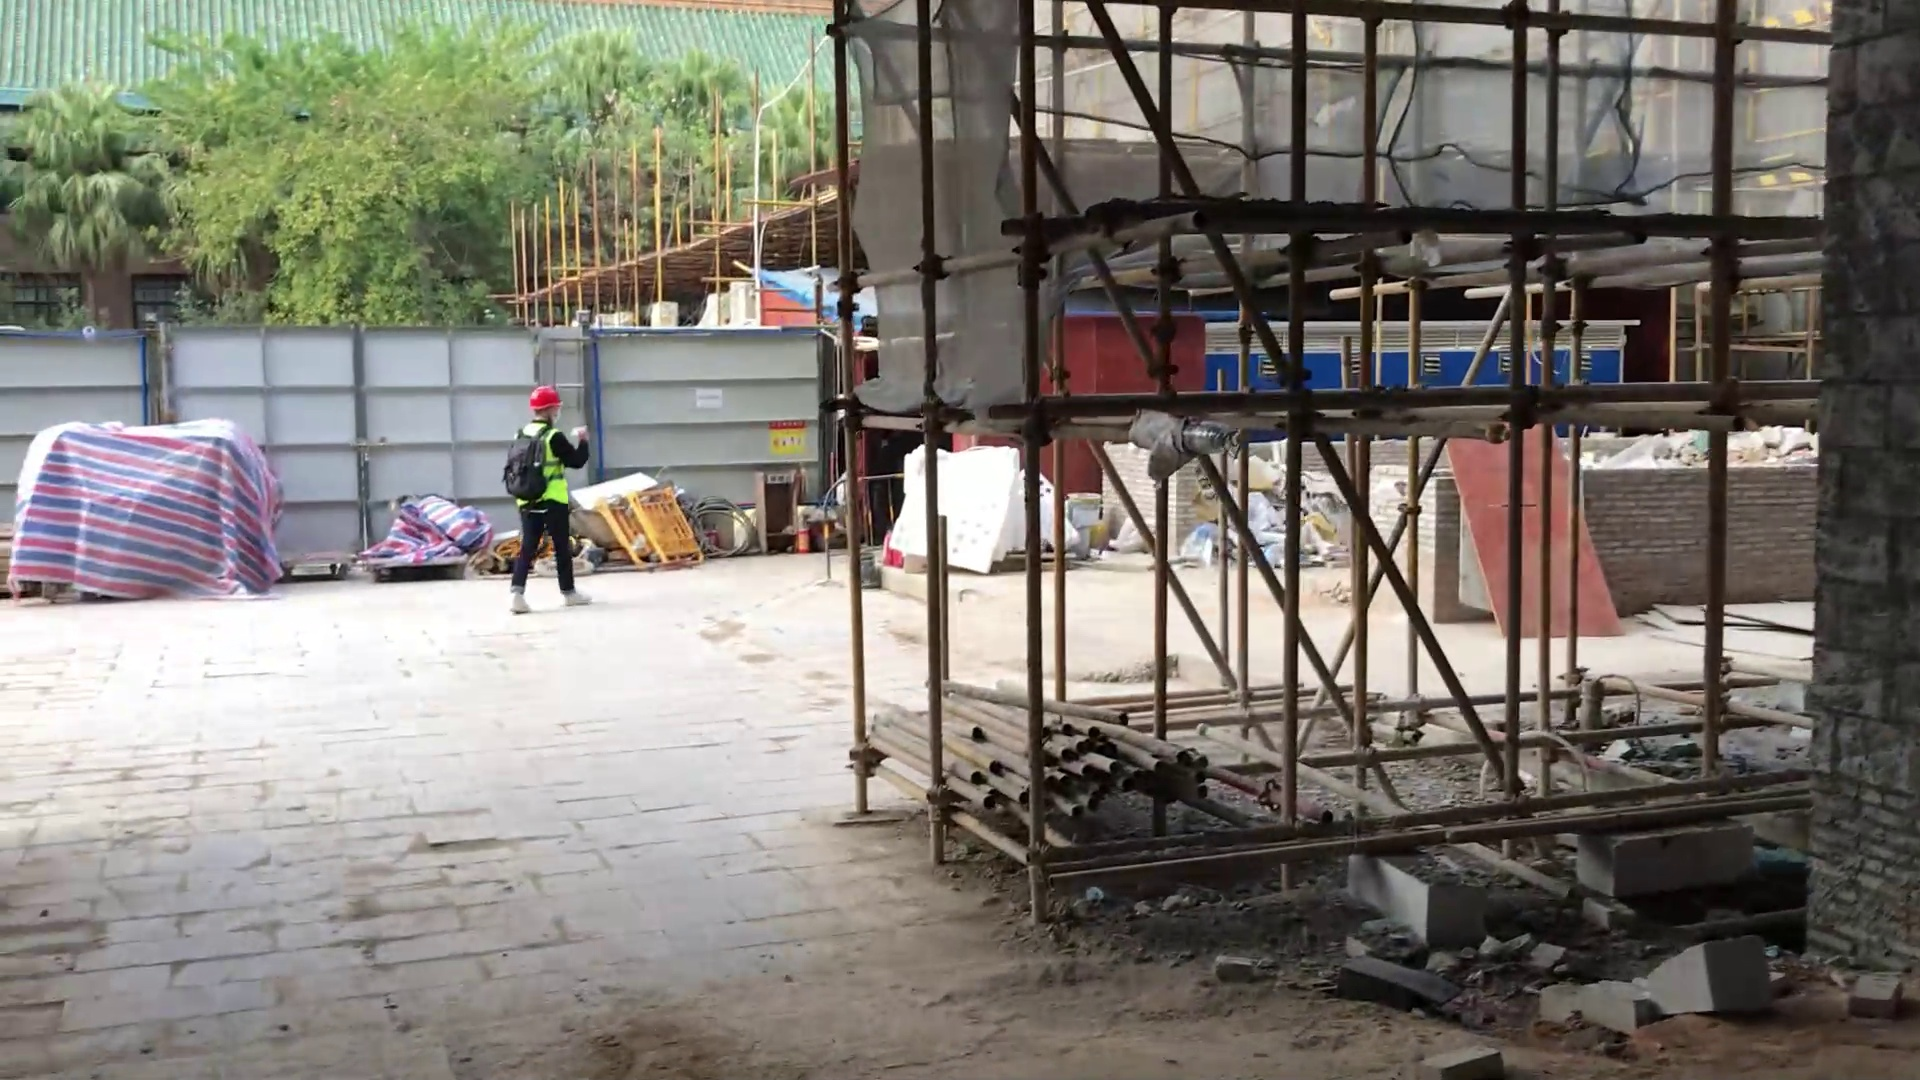helmet: (525, 375, 574, 412)
person: (499, 376, 606, 622)
vest: (511, 422, 581, 516)
